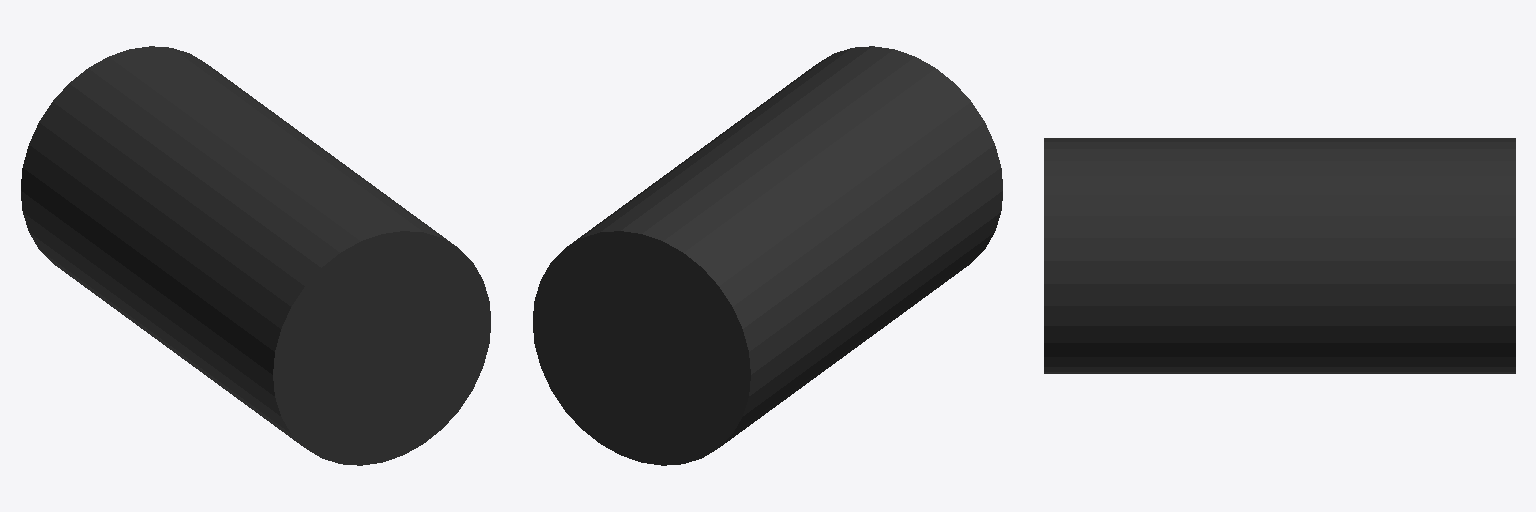
The robot description file, URDF, robot "biped":
<?xml version="1.0"?>
<!-- created with Phobos 0.7 -->
  <robot name="biped">

    <link name="l_ab_ad">
      <inertial>
        <origin xyz="8e-05 0.02446 -0.00146" rpy="0 0 0"/>
        <mass value="1.2"/>
        <inertia ixx="0.00196" ixy="0" ixz="0" iyy="0.00133" iyz="-2e-05" izz="0.0023"/>
      </inertial>
      <visual name="mesh.002">
        <origin xyz="8e-05 0.02446 -0.00146" rpy="0 0 0"/>
        <geometry>
          <mesh filename="../meshes/stl/Assembly Mockup v27.003.stl" scale="1.0 1.0 1.0"/>
        </geometry>
        <material name="Material"/>
      </visual>
      <collision name="mesh.002">
        <origin xyz="0 0.00015 -0.00044" rpy="0 0 0"/>
        <geometry>
          <cylinder radius="0.055" length="0.0759"/>
        </geometry>
      </collision>
    </link>

    <link name="l_foot">
      <inertial>
        <origin xyz="0 0.00325 -0.02828" rpy="0 0 0"/>
        <mass value="0.5"/>
        <inertia ixx="0.00163" ixy="0" ixz="0" iyy="0.001" iyz="-5e-05" izz="0.00151"/>
      </inertial>

      <visual name="Cylinder">
        <origin xyz="0 -0.07 -0.05247" rpy="1.5708 0 0"/>
        <geometry>
          <cylinder radius="0.01" length="0.04"/>
        </geometry>
        <material name="Material"/>
      </visual>

      <visual name="mesh.009">
        <origin xyz="0 0.00325 -0.02828" rpy="0 0 0"/>
        <geometry>
          <mesh filename="../meshes/stl/Assembly Mockup v27.012.stl" scale="1.0 1.0 1.0"/>
        </geometry>
        <material name="Material"/>
      </visual>
      <collision name="mesh.009">
        <origin xyz="0 0.00325 -0.02828" rpy="0 0 0"/>
        <geometry>
          <mesh filename="../meshes/stl/Assembly Mockup v27.012.stl" scale="1.0 1.0 1.0"/>
        </geometry>
        <material name="Material"/>
      </collision>

    </link>

    <link name="l_lower">
      <inertial>
        <origin xyz="-0.0001 0.00125 -0.14482" rpy="0 0 0"/>
        <mass value="2.0"/>
        <inertia ixx="0.04215" ixy="-0.0001" ixz="-5e-05" iyy="0.03449" iyz="-0.01473" izz="0.00811"/>
      </inertial>
      <visual name="mesh.008">
        <origin xyz="-0.0001 0.00125 -0.14482" rpy="0 0 0"/>
        <geometry>
          <mesh filename="../meshes/stl/Assembly Mockup v27.011.stl" scale="1.0 1.0 1.0"/>
        </geometry>
        <material name="Material"/>
      </visual>
      <collision name="mesh.008">
        <origin xyz="-0.0001 0.00125 -0.14482" rpy="0 0 0"/>
        <geometry>
          <mesh filename="../meshes/stl/Assembly Mockup v27.011.stl" scale="1.0 1.0 1.0"/>
        </geometry>
        <material name="Material"/>
      </collision>

      <visual name="mesh.011">
        <origin xyz="0.05162 0.03693 -0.07685" rpy="0 0 0"/>
        <geometry>
          <mesh filename="../meshes/stl/Assembly Mockup v27.014.stl" scale="1.0 1.0 1.0"/>
        </geometry>
        <material name="Material"/>
      </visual>
      <collision name="mesh.011">
        <origin xyz="0.05162 0.03693 -0.07685" rpy="0 0 0"/>
        <geometry>
          <mesh filename="../meshes/stl/Assembly Mockup v27.014.stl" scale="1.0 1.0 1.0"/>
        </geometry>
        <material name="Material"/>
      </collision>
    </link>

    <link name="l_upper">
      <inertial>
        <origin xyz="0.00043 0.04822 -0.10773" rpy="0 0 0"/>
        <mass value="1.0"/>
        <inertia ixx="0.04548" ixy="-0.00012" ixz="5e-05" iyy="0.0388" iyz="0.01517" izz="0.00738"/>
      </inertial>
      <visual name="mesh.010">
        <origin xyz="0.00043 0.04822 -0.10773" rpy="0 0 0"/>
        <geometry>
          <mesh filename="../meshes/stl/Assembly Mockup v27.013.stl" scale="1.0 1.0 1.0"/>
        </geometry>
        <material name="Material"/>
      </visual>
      <collision name="mesh.010">
        <origin xyz="0.00043 0.04822 -0.10773" rpy="0 0 0"/>
        <geometry>
          <mesh filename="../meshes/stl/Assembly Mockup v27.013.stl" scale="1.0 1.0 1.0"/>
        </geometry>
        <material name="Material"/>
      </collision>
    </link>

    <link name="l_yaw">
      <inertial>
        <origin xyz="0 0 0.03518" rpy="0 0 0"/>
        <mass value="2.4"/>
        <inertia ixx="0.00566" ixy="0" ixz="4e-05" iyy="0.01138" iyz="0" izz="0.00912"/>
      </inertial>
      <visual name="mesh.004">
        <origin xyz="0 0 0.03518" rpy="0 0 0"/>
        <geometry>
          <mesh filename="../meshes/stl/Assembly Mockup v27.005.stl" scale="1.0 1.0 1.0"/>
        </geometry>
        <material name="Material"/>
      </visual>
      <collision name="mesh.004">
        <origin xyz="0 0 0.03518" rpy="0 0 0"/>
        <geometry>
          <mesh filename="../meshes/stl/Assembly Mockup v27.005.stl" scale="1.0 1.0 1.0"/>
        </geometry>
        <material name="Material"/>
      </collision>
    </link>

    <link name="r_ab_ad">
      <inertial>
        <origin xyz="-8e-05 0.02445 -0.00143" rpy="0 0 0"/>
        <mass value="1.2"/>
        <inertia ixx="0.00196" ixy="0" ixz="0" iyy="0.00133" iyz="-2e-05" izz="0.00229"/>
      </inertial>
      <visual name="mesh.003">
        <origin xyz="-8e-05 0.02445 -0.00143" rpy="0 0 0"/>
        <geometry>
          <mesh filename="../meshes/stl/Assembly Mockup v27.004.stl" scale="1.0 1.0 1.0"/>
        </geometry>
        <material name="Material"/>
      </visual>
      <collision name="mesh.003">
        <origin xyz="-8e-05 0.02445 -0.00143" rpy="0 0 0"/>
        <geometry>
          <mesh filename="../meshes/stl/Assembly Mockup v27.004.stl" scale="1.0 1.0 1.0"/>
        </geometry>
        <material name="Material"/>
      </collision>
    </link>

    <link name="r_foot">
      <inertial>
        <origin xyz="0 0.00325 -0.02828" rpy="0 0 0"/>
        <mass value="0.5"/>
        <inertia ixx="0.00163" ixy="0" ixz="0" iyy="0.001" iyz="-5e-05" izz="0.00151"/>
      </inertial>
      <visual name="mesh">
        <origin xyz="0 0.00325 -0.02828" rpy="0 0 0"/>
        <geometry>
          <mesh filename="../meshes/stl/Assembly Mockup v27.stl" scale="1.0 1.0 1.0"/>
        </geometry>
        <material name="Material"/>
      </visual>
      <collision name="mesh">
        <origin xyz="0 0.00325 -0.02828" rpy="0 0 0"/>
        <geometry>
          <mesh filename="../meshes/stl/Assembly Mockup v27.stl" scale="1.0 1.0 1.0"/>
        </geometry>
        <material name="Material"/>
      </collision>
    </link>

    <link name="r_lower">
      <inertial>
        <origin xyz="-0.00018 0.00049 -0.14674" rpy="0 0 0"/>
        <mass value="2.0"/>
        <inertia ixx="0.04173" ixy="0.00012" ixz="6e-05" iyy="0.03413" iyz="-0.01457" izz="0.00804"/>
      </inertial>
      <visual name="mesh.007">
        <origin xyz="-0.00018 0.00049 -0.14674" rpy="0 0 0"/>
        <geometry>
          <mesh filename="../meshes/stl/Assembly Mockup v27.010.stl" scale="1.0 1.0 1.0"/>
        </geometry>
        <material name="Material"/>
      </visual>
      <collision name="mesh.007">
        <origin xyz="-0.00018 0.00049 -0.14674" rpy="0 0 0"/>
        <geometry>
          <mesh filename="../meshes/stl/Assembly Mockup v27.010.stl" scale="1.0 1.0 1.0"/>
        </geometry>
        <material name="Material"/>
      </collision>

      <visual name="mesh.012">
        <origin xyz="-0.05162 0.03692 -0.07686" rpy="0 0 0"/>
        <geometry>
          <mesh filename="../meshes/stl/Assembly Mockup v27.015.stl" scale="1.0 1.0 1.0"/>
        </geometry>
        <material name="Material"/>
      </visual>
      <collision name="mesh.012">
        <origin xyz="-0.05162 0.03692 -0.07686" rpy="0 0 0"/>
        <geometry>
          <mesh filename="../meshes/stl/Assembly Mockup v27.015.stl" scale="1.0 1.0 1.0"/>
        </geometry>
        <material name="Material"/>
      </collision>
    </link>

    <link name="r_upper">
      <inertial>
        <origin xyz="-0.00228 0.0512 -0.11337" rpy="0 0 0"/>
        <mass value="1.0"/>
        <inertia ixx="0.04446" ixy="0.00018" ixz="-7e-05" iyy="0.03796" iyz="0.0148" izz="0.00723"/>
      </inertial>
      <visual name="mesh.006">
        <origin xyz="-0.00228 0.0512 -0.11337" rpy="0 0 0"/>
        <geometry>
          <mesh filename="../meshes/stl/Assembly Mockup v27.009.stl" scale="1.0 1.0 1.0"/>
        </geometry>
        <material name="Material"/>
      </visual>
      <collision name="mesh.006">
        <origin xyz="-0.00228 0.0512 -0.11337" rpy="0 0 0"/>
        <geometry>
          <mesh filename="../meshes/stl/Assembly Mockup v27.009.stl" scale="1.0 1.0 1.0"/>
        </geometry>
        <material name="Material"/>
      </collision>
    </link>

    <link name="r_yaw">
      <inertial>
        <origin xyz="0 0 0.03517" rpy="0 0 0"/>
        <mass value="2.4"/>
        <inertia ixx="0.00565" ixy="0" ixz="-4e-05" iyy="0.01138" iyz="0" izz="0.00912"/>
      </inertial>
      <visual name="mesh.005">
        <origin xyz="0 0 0.03517" rpy="0 0 0"/>
        <geometry>
          <mesh filename="../meshes/stl/Assembly Mockup v27.006.stl" scale="1.0 1.0 1.0"/>
        </geometry>
        <material name="Material"/>
      </visual>
      <collision name="mesh.005">
        <origin xyz="0 0 0.03517" rpy="0 0 0"/>
        <geometry>
          <mesh filename="../meshes/stl/Assembly Mockup v27.006.stl" scale="1.0 1.0 1.0"/>
        </geometry>
        <material name="Material"/>
      </collision>
    </link>

    <link name="torso">
      <inertial>
        <origin xyz="0 -0.09385 0.03683" rpy="0 0 0"/>
        <mass value="4.4"/>
        <inertia ixx="0.00838" ixy="0" ixz="0" iyy="0.00298" iyz="0" izz="0.0088"/>
      </inertial>
      <visual name="mesh.001">
        <origin xyz="0 -0.09385 0.03683" rpy="0 0 0"/>
        <geometry>
          <mesh filename="../meshes/stl/Assembly Mockup v27.001.stl" scale="1.0 1.0 1.0"/>
        </geometry>
        <material name="Material"/>
      </visual>
      <collision name="mesh.001">
        <origin xyz="0 -0.09385 0.03683" rpy="0 0 0"/>
        <geometry>
          <mesh filename="../meshes/stl/Assembly Mockup v27.001.stl" scale="1.0 1.0 1.0"/>
        </geometry>
        <material name="Material"/>
      </collision>

      <visual name="mesh.013">
        <origin xyz="-1e-05 0.10381 0.00587" rpy="0 0 0"/>
        <geometry>
          <mesh filename="../meshes/stl/Assembly Mockup v27.016.stl" scale="1.0 1.0 1.0"/>
        </geometry>
        <material name="Material"/>
      </visual>
      <collision name="mesh.013">
        <origin xyz="-1e-05 0.10381 0.00587" rpy="0 0 0"/>
        <geometry>
          <mesh filename="../meshes/stl/Assembly Mockup v27.016.stl" scale="1.0 1.0 1.0"/>
        </geometry>
        <material name="Material"/>
      </collision>

      <visual name="mesh.014">
        <origin xyz="0 -0.071 0.005" rpy="0 0 0"/>
        <geometry>
          <mesh filename="../meshes/stl/Assembly Mockup v27.017.stl" scale="1.0 1.0 1.0"/>
        </geometry>
        <material name="Material"/>
      </visual>
      <collision name="mesh.014">
        <origin xyz="0 -0.071 0.005" rpy="0 0 0"/>
        <geometry>
          <mesh filename="../meshes/stl/Assembly Mockup v27.017.stl" scale="1.0 1.0 1.0"/>
        </geometry>
        <material name="Material"/>
      </collision>
    </link>

    <joint name="l_ab_ad" type="revolute">
      <origin xyz="0.15 0 0" rpy="0 0 0"/>
      <parent link="torso"/>
      <child link="l_ab_ad"/>
      <axis xyz="0 -1.0 0"/>
      <limit lower="-2" upper="2" effort="0" velocity="0"/>
    </joint>

    <joint name="l_foot" type="revolute">
      <origin xyz="0 -0.1529 -0.42302" rpy="0 0 0"/>
      <parent link="l_lower"/>
      <child link="l_foot"/>
      <axis xyz="1.0 0 0"/>
      <limit lower="-1.5708" upper="0.69813" effort="0" velocity="0"/>
    </joint>

    <joint name="l_lower" type="revolute">
      <origin xyz="0 0.1529 -0.42302" rpy="0 0 0"/>
      <parent link="l_upper"/>
      <child link="l_lower"/>
      <axis xyz="1.0 0 0"/>
      <limit lower="-2.0944" upper="0.34907" effort="0" velocity="0"/>
    </joint>

    <joint name="l_upper" type="revolute">
      <origin xyz="0 0 0" rpy="0 0 0"/>
      <parent link="l_yaw"/>
      <child link="l_upper"/>
      <axis xyz="1.0 0 0"/>
      <limit lower="-1.91986" upper="1.22173" effort="0" velocity="0"/>
    </joint>

    <joint name="l_yaw" type="revolute">
      <origin xyz="0 0 -0.1295" rpy="0 0 0"/>
      <parent link="l_ab_ad"/>
      <child link="l_yaw"/>
      <axis xyz="0 0 1.0"/>
      <limit lower="-2" upper="2" effort="0" velocity="0"/>
    </joint>

    <joint name="r_ab_ad" type="revolute">
      <origin xyz="-0.15 0 0" rpy="0 0 0"/>
      <parent link="torso"/>
      <child link="r_ab_ad"/>
      <axis xyz="0 -1.0 0"/>
      <limit lower="-2" upper="2" effort="0" velocity="0"/>
    </joint>

    <joint name="r_foot" type="revolute">
      <origin xyz="0 -0.1529 -0.42302" rpy="0 0 0"/>
      <parent link="r_lower"/>
      <child link="r_foot"/>
      <axis xyz="1.0 0 0"/>
      <limit lower="-1.5708" upper="0.69813" effort="0" velocity="0"/>
    </joint>

    <joint name="r_lower" type="revolute">
      <origin xyz="0 0.1529 -0.42302" rpy="0 0 0"/>
      <parent link="r_upper"/>
      <child link="r_lower"/>
      <axis xyz="1.0 0 0"/>
      <limit lower="-2.0944" upper="0.34907" effort="0" velocity="0"/>
    </joint>

    <joint name="r_upper" type="revolute">
      <origin xyz="0 0 0" rpy="0 0 0"/>
      <parent link="r_yaw"/>
      <child link="r_upper"/>
      <axis xyz="1.0 0 0"/>
      <limit lower="-1.91986" upper="1.22173" effort="0" velocity="0"/>
    </joint>

    <joint name="r_yaw" type="revolute">
      <origin xyz="0 0 -0.1295" rpy="0 0 0"/>
      <parent link="r_ab_ad"/>
      <child link="r_yaw"/>
      <axis xyz="0 0 1.0"/>
      <limit lower="-2" upper="2" effort="0" velocity="0"/>
    </joint>

    <material name="Material">
      <color rgba="0.25 0.25 0.25 1.0"/>
    </material>

  </robot>

--- Render facts (derived) ---
Views: 3 orthographic renders of the robot side by side, from view 1: azimuth 30°, elevation 25°; view 2: azimuth 150°, elevation 25°; view 3: azimuth 270°, elevation 25°.
Model biped with 11 links and 10 joints (10 revolute), rooted at torso, posed every joint at zero.
Links seen in each view (by area): view 1: l_foot; view 2: l_foot; view 3: l_foot.
Link boxes in pixels (x1=…): l_foot: x1=21, y1=46, x2=490, y2=465; l_foot: x1=533, y1=46, x2=1002, y2=465; l_foot: x1=1044, y1=138, x2=1515, y2=373.
Bounding box of the posed robot: 0.02 × 0.04 × 0.02 m (x, y, z).
0 mesh visuals loaded from 15 distinct referenced files (none loaded); not drawn: 15 (reference not matched to a file when rendering).